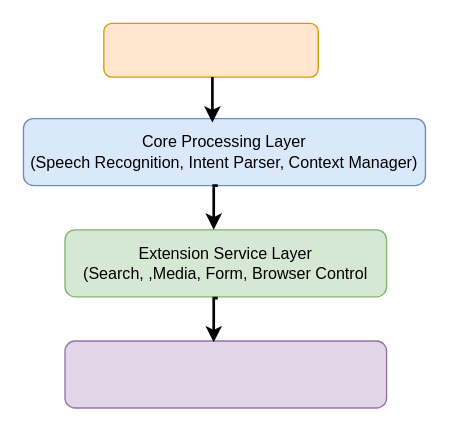
Image size: 449x431. Some labels were removed from this diagram. Each missing label, with the centre of its shape:
"Data & Configuration Layer (Command Repository, ,Preferences)" belongs at point (225, 374).
"User Interaction Layer" belongs at point (210, 49).
